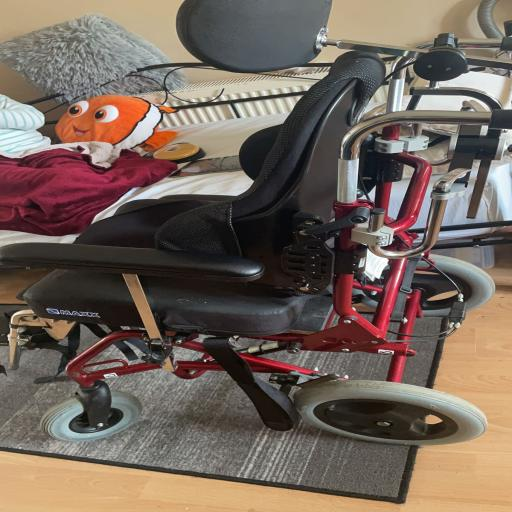wheelchair: (0, 42, 511, 444)
